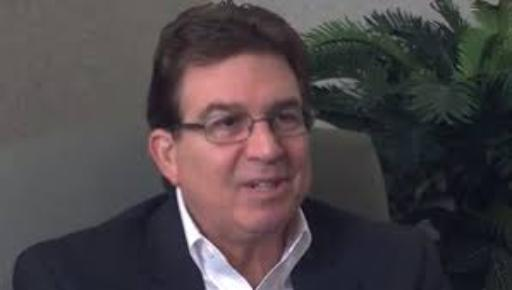left_eye: (271, 112, 302, 126)
left_lip_corner: (281, 175, 302, 187)
right_eye: (209, 116, 248, 131)
right_lip_corner: (238, 180, 251, 191)
